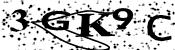3: (8, 7, 30, 32)
9: (111, 5, 135, 32)
C: (144, 11, 175, 44)
G: (40, 7, 72, 36)
K: (73, 9, 114, 39)
